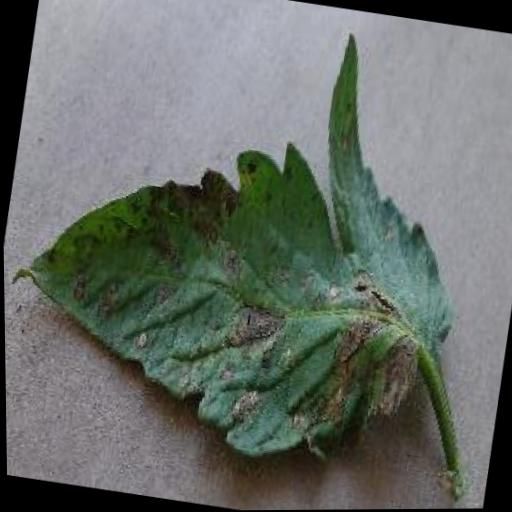Early Blight: (1, 100, 471, 483)
